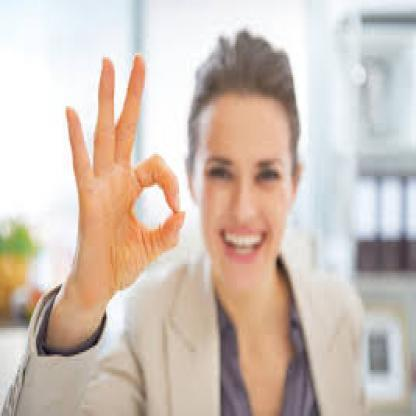ok: (62, 48, 186, 303)
